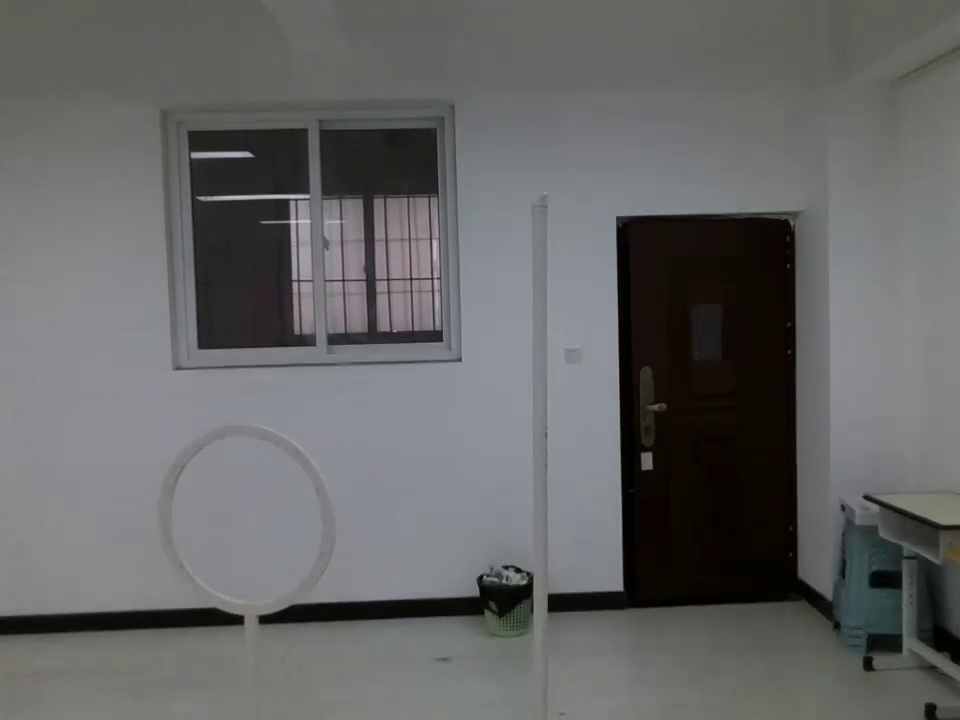gan: (523, 187, 556, 719)
quan: (147, 419, 340, 624)
